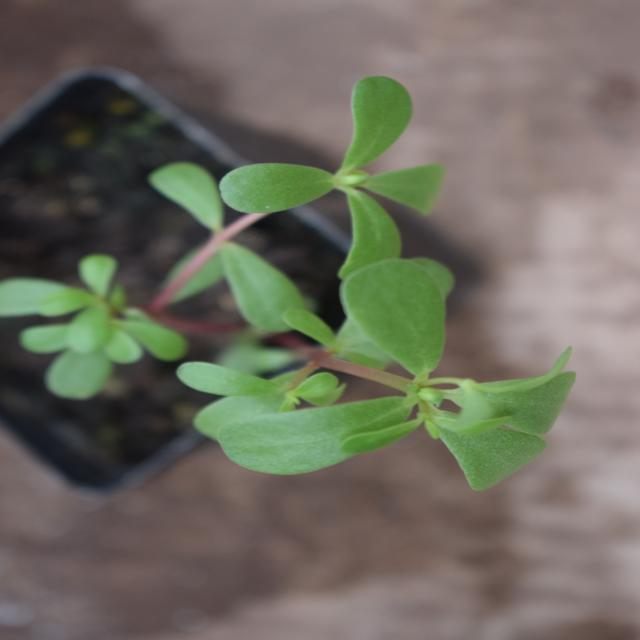purslane: (127, 112, 558, 570)
